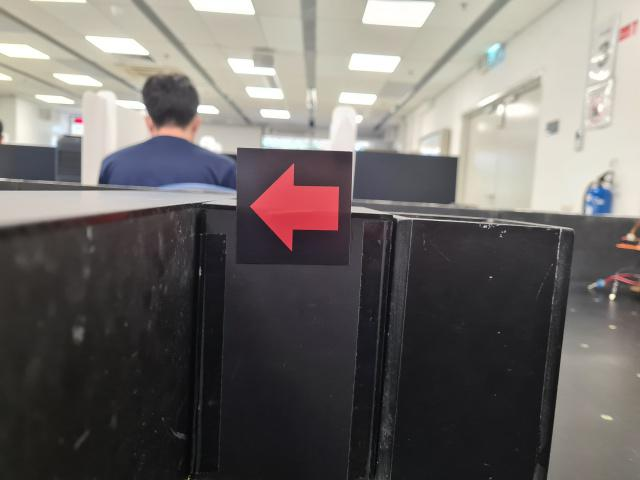left: (236, 147, 353, 268)
